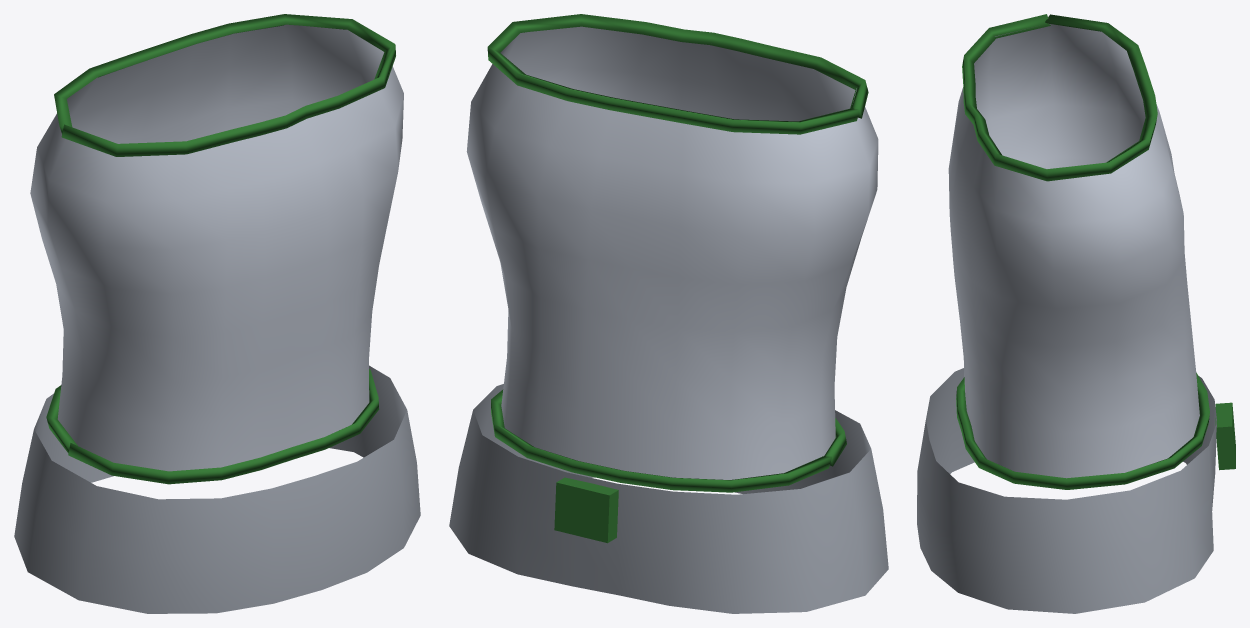
Rendered from golf_shirt.glb.
The picture shows the model from 3 angles, left to right: view 1: azimuth 30°, elevation 25°; view 2: azimuth 150°, elevation 25°; view 3: azimuth 270°, elevation 25°; orthographic projection. The views are drawn at different scales.
Parts seen in each view (by area): view 1: golf_shirt_chest; view 2: golf_shirt_chest; view 3: golf_shirt_chest.
Part boxes in pixels (x1,y1,x2,y2): golf_shirt_chest: [14, 14, 420, 613]; golf_shirt_chest: [449, 14, 888, 613]; golf_shirt_chest: [917, 14, 1235, 613].
Bounding box in the file's own units: 0.4427 × 0.5256 × 0.3387.
